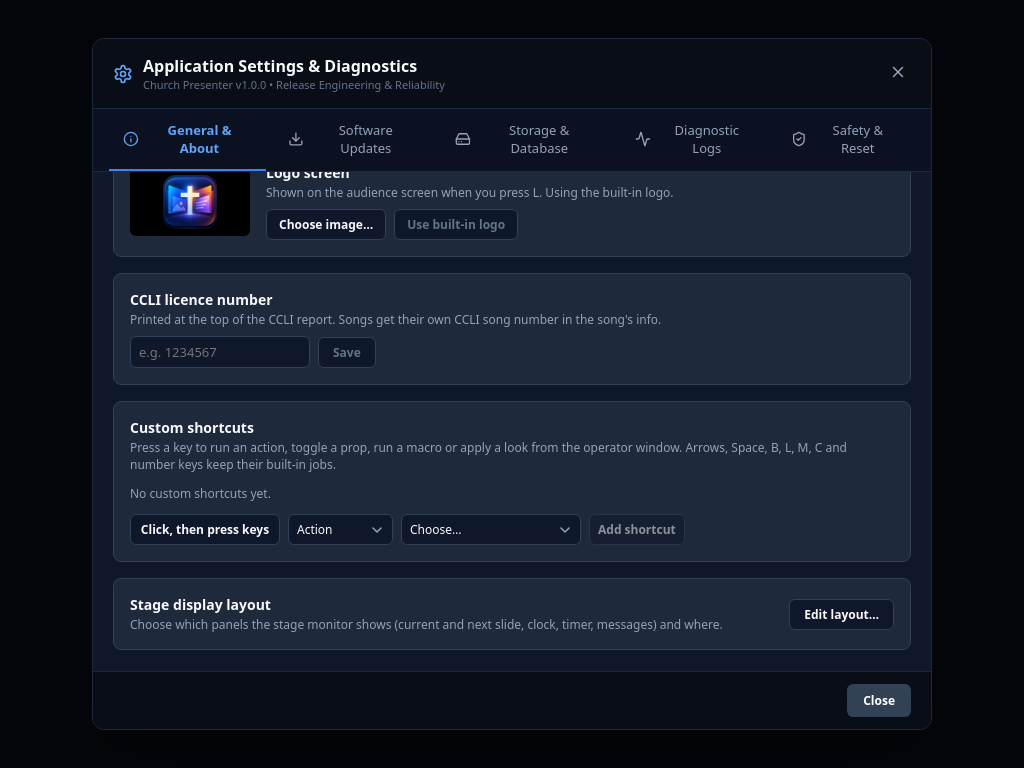
Test case: StageLayoutEditor › opens from the Settings screen
This screenshot has width=1024, height=768.
(page scrolled)
Click the button with test id "open-stage-layout".
click(842, 614)  # box [789, 599, 894, 630]
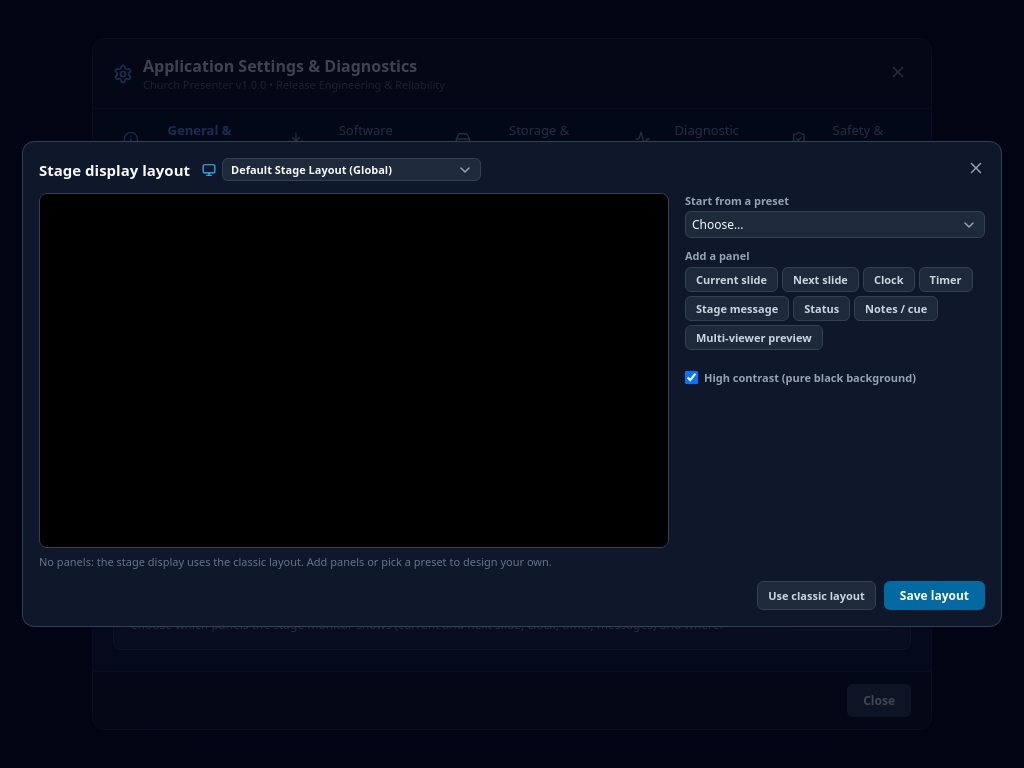
expect the dialog with test id "stage-layout-editor" is shown: met
